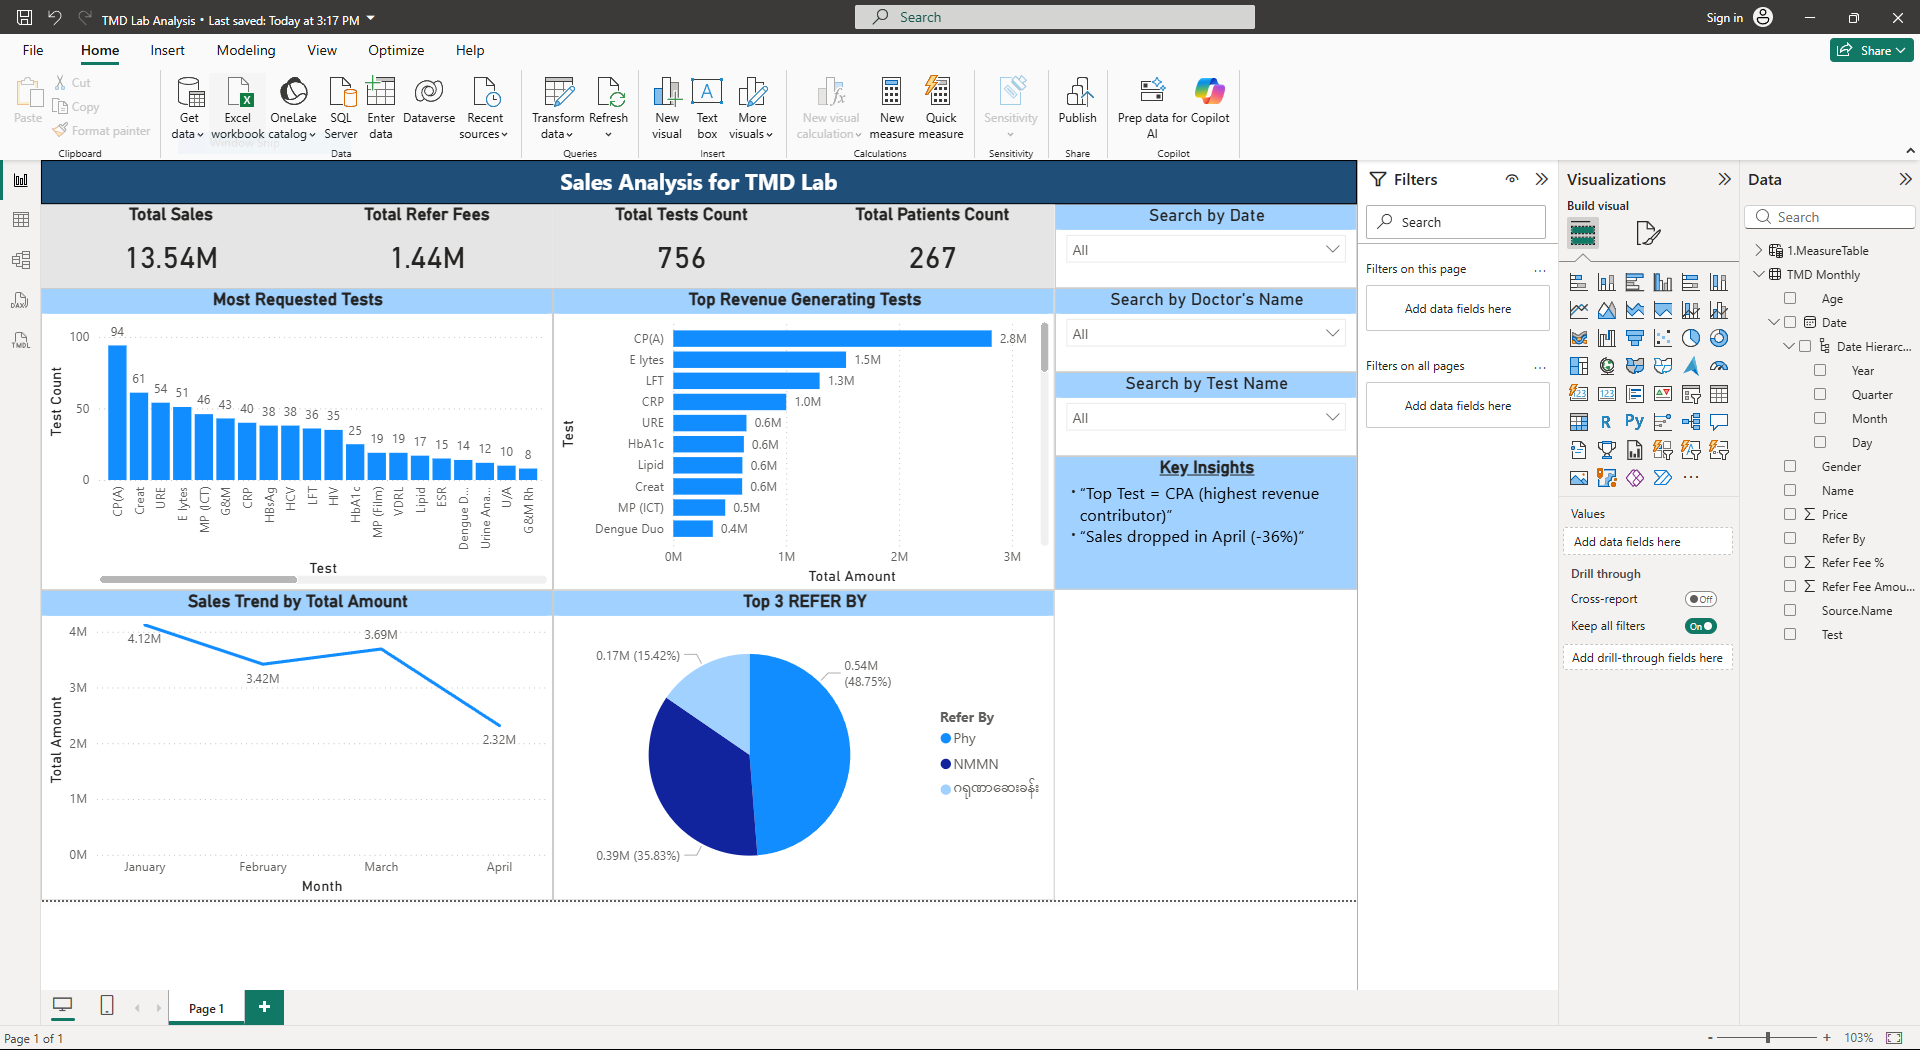

The page's visual inventory and layout, read from the dashboard file:
{"tool":"powerbi","page":{"name":"Page 1","canvas":[1280,720],"ordinal":0},"visuals":[{"type":"pieChart","title":"Top 3 REFER BY","fields":{"Category":["TMD Monthly.Refer By"],"Y":["1.MeasureTable.Total ReferFee Amount"]},"box":[498,418.2,488.3,301.5],"z":0},{"type":"clusteredBarChart","title":"Total Sales by Test Names","fields":{"Category":["TMD Monthly.Test"],"Y":["1.MeasureTable.Total Amount"]},"box":[498,124.5,488.3,293.7],"z":1000},{"type":"slicer","title":"Search by Date","fields":{"Values":["TMD Monthly.Date.Variation.Date Hierarchy.Month"]},"box":[986.3,42.8,293.7,81.7],"z":2000},{"type":"clusteredColumnChart","title":"Test Count","fields":{"Category":["TMD Monthly.Test"],"Y":["1.MeasureTable.Test Count"]},"box":[0,124.5,498,293.7],"z":3000},{"type":"textbox","box":[0,0,1280,42.8],"z":4000},{"type":"card","title":"Total Patients Count","fields":{"Values":["1.MeasureTable.Total Patient"]},"box":[748,42.8,238.3,81.7],"z":5000},{"type":"card","title":"Total Sales","fields":{"Values":["1.MeasureTable.Total Amount"]},"box":[0,42.8,252.9,81.7],"z":6000},{"type":"card","title":"Total Tests Count","fields":{"Values":["1.MeasureTable.Test Count"]},"box":[498,42.8,250,81.7],"z":7000},{"type":"card","title":"Total Refer Fees","fields":{"Values":["1.MeasureTable.Total ReferFee Amount"]},"box":[252.9,42.8,245.1,81.7],"z":8000},{"type":"lineChart","title":"Sales Trend by Total Amount","fields":{"Y":["1.MeasureTable.Total Amount"],"Category":["TMD Monthly.Date.Variation.Date Hierarchy.Month"]},"box":[0,418.2,498,301.5],"z":9000},{"type":"slicer","title":"Search by Doctor''s Name","fields":{"Values":["TMD Monthly.Refer By"]},"box":[986.3,124.5,293.7,81.7],"z":10000},{"type":"slicer","title":"Search by Test Name","fields":{"Values":["TMD Monthly.Test"]},"box":[986.3,206.2,293.7,81.7],"z":11000}]}

Visuals, with their boxes in screenshot pixels (x1, y1, x2, y2):
"Top 3 REFER BY" pieChart: (left=651, top=571, right=1353, bottom=1005)
"Total Sales by Test Names" clusteredBarChart: (left=651, top=149, right=1353, bottom=571)
"Search by Date" slicer: (left=1353, top=32, right=1776, bottom=149)
"Test Count" clusteredColumnChart: (left=0, top=149, right=651, bottom=571)
textbox: (left=0, top=0, right=1776, bottom=32)
"Total Patients Count" card: (left=1011, top=32, right=1353, bottom=149)
"Total Sales" card: (left=0, top=32, right=299, bottom=149)
"Total Tests Count" card: (left=651, top=32, right=1011, bottom=149)
"Total Refer Fees" card: (left=299, top=32, right=651, bottom=149)
"Sales Trend by Total Amount" lineChart: (left=0, top=571, right=651, bottom=1005)
"Search by Doctor''s Name" slicer: (left=1353, top=149, right=1776, bottom=267)
"Search by Test Name" slicer: (left=1353, top=267, right=1776, bottom=384)
